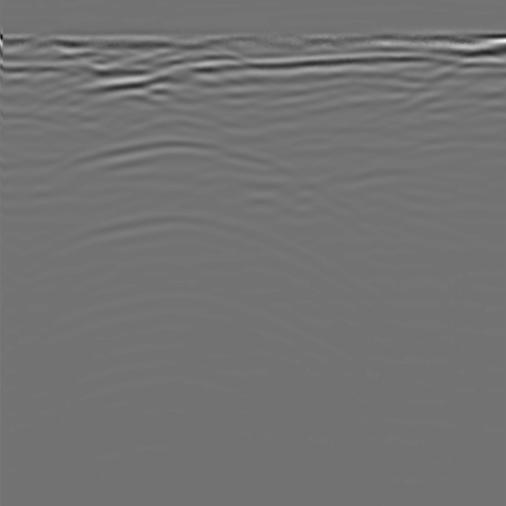hyperbola: (34, 125, 303, 266)
